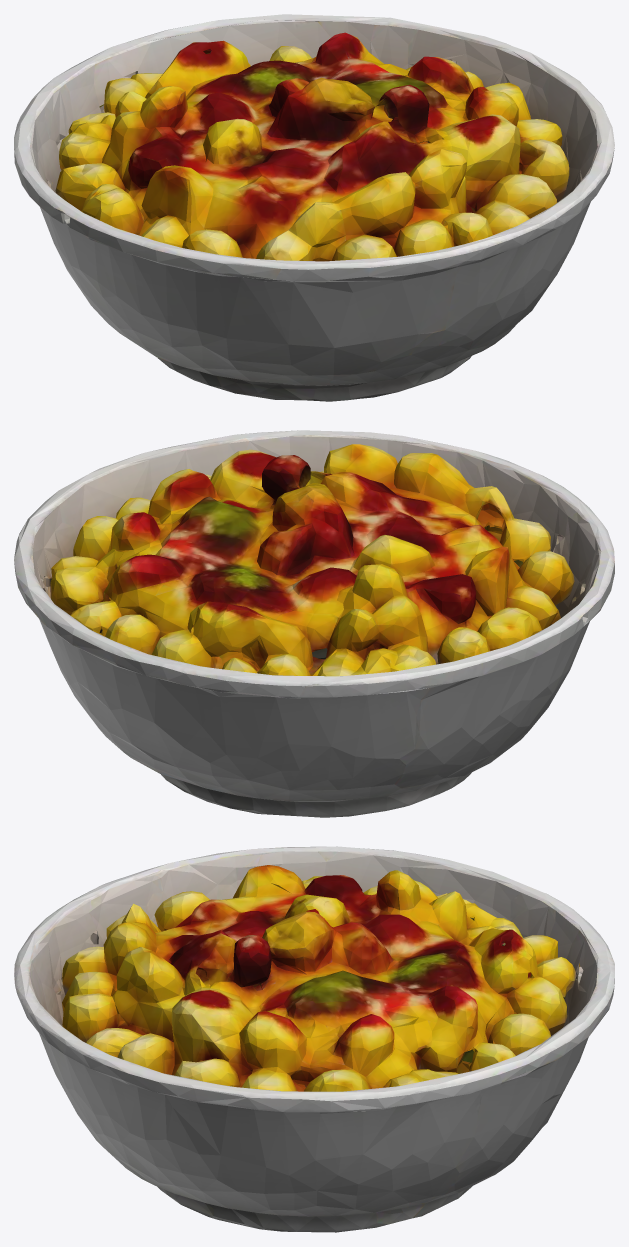
3 views of the same model, one above another, from view 1: azimuth 30°, elevation 25°; view 2: azimuth 150°, elevation 25°; view 3: azimuth 270°, elevation 25° (orthographic).
Visible parts, largest first — view 1: geometry_0; view 2: geometry_0; view 3: geometry_0.
Boxes of the visible parts, x1=… form: geometry_0: x1=14, y1=14, x2=614, y2=401; geometry_0: x1=14, y1=430, x2=614, y2=817; geometry_0: x1=14, y1=846, x2=614, y2=1232.
Size of the model in its own units: 0.998 by 0.465 by 0.9976.
1 material, 1 textured.
